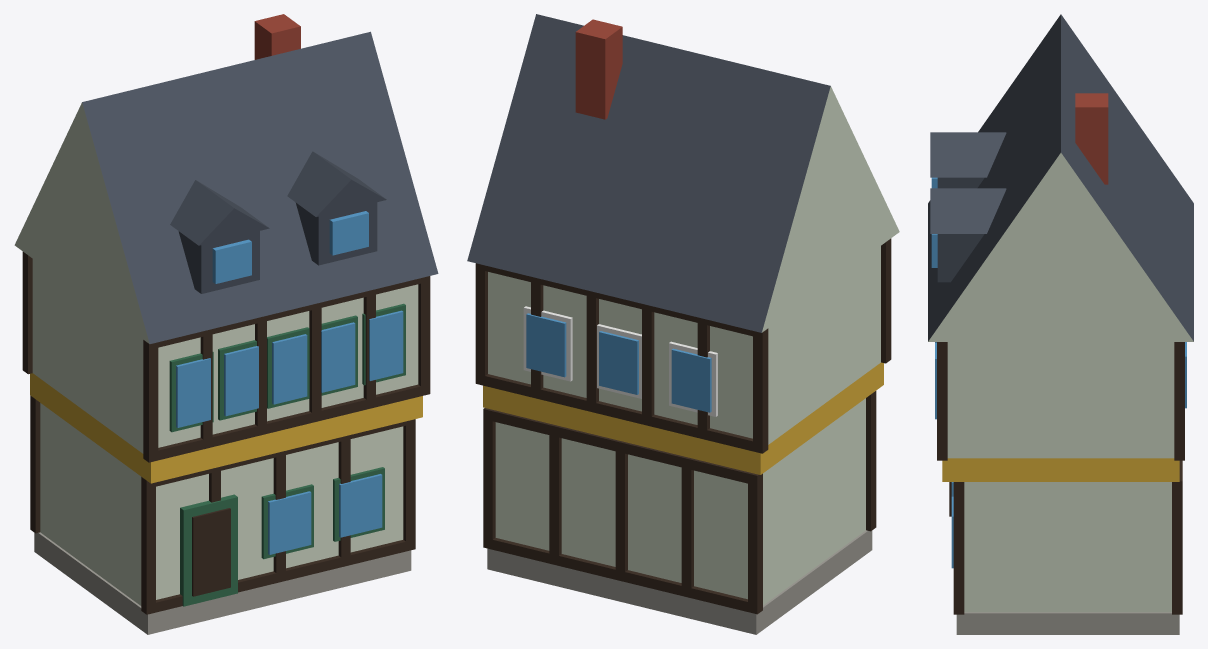
File: 09_quedlinburg_fachwerk_3.obj
3 views of the same model, side by side, from view 1: azimuth 30°, elevation 25°; view 2: azimuth 150°, elevation 25°; view 3: azimuth 270°, elevation 25° (orthographic). The views are drawn at different scales.
Parts seen in each view (by area): view 1: 09_quedlinburg_fachwerk_3; view 2: 09_quedlinburg_fachwerk_3; view 3: 09_quedlinburg_fachwerk_3.
Part boxes in pixels (<box>): 09_quedlinburg_fachwerk_3: <box>14,14,438,634</box>; 09_quedlinburg_fachwerk_3: <box>467,14,899,634</box>; 09_quedlinburg_fachwerk_3: <box>928,14,1193,634</box>.
Size of the model in its own units: 1.38 by 2.34 by 1.12.
